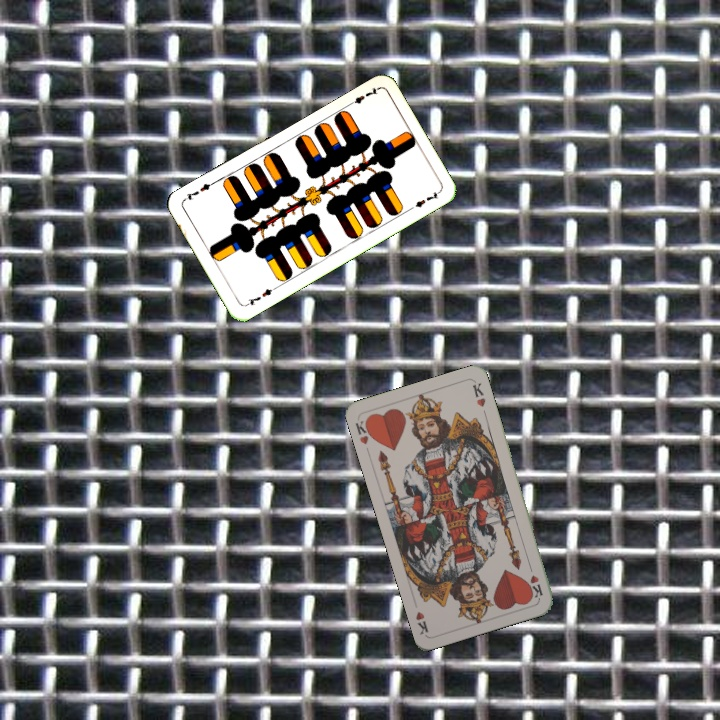E7: (242, 283, 279, 309), (343, 83, 380, 109)
HK: (524, 560, 545, 601), (351, 415, 376, 447)
